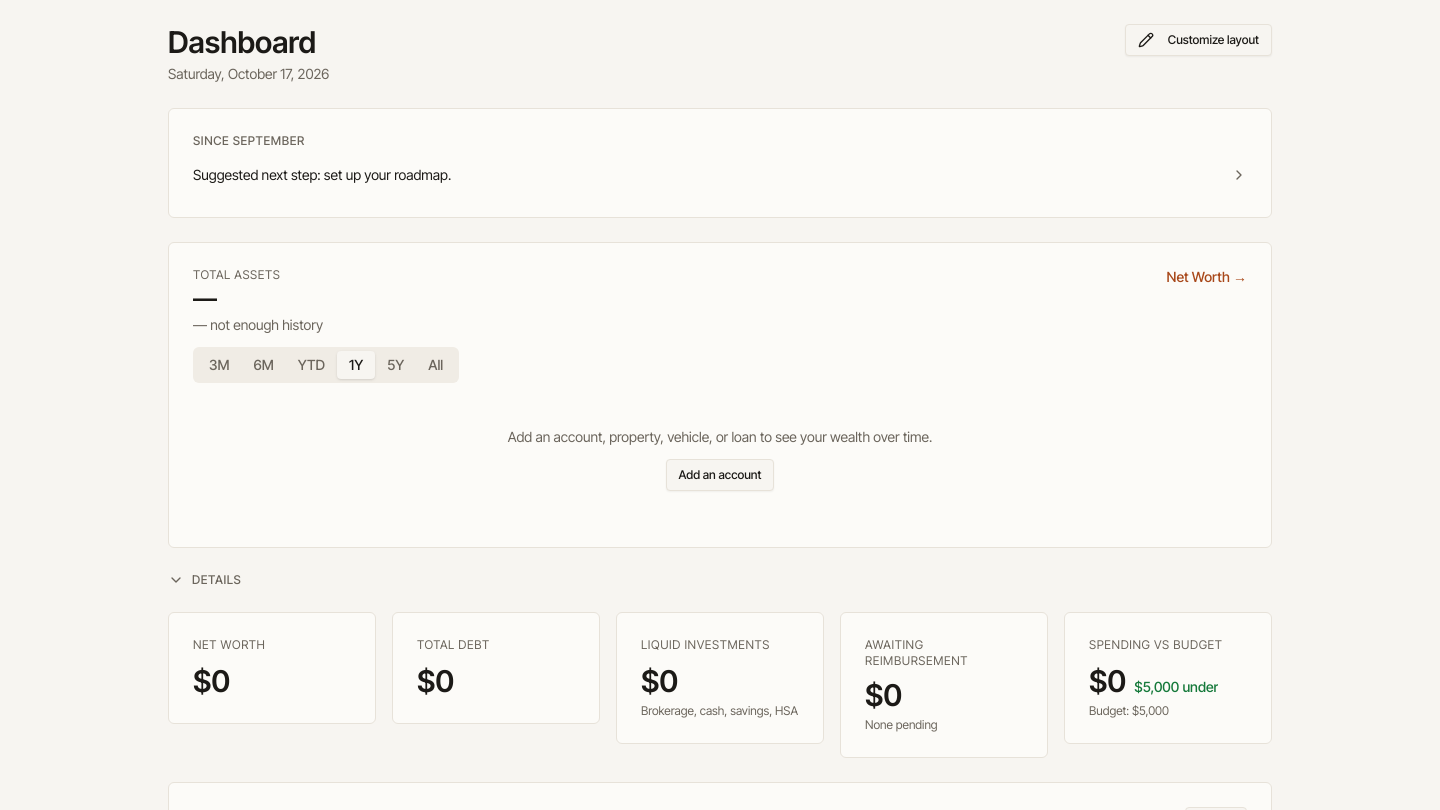
it: Dashboard widget reposition › trivia can be hidden into the tray like any widget
What coordinates should you click on to do the following:
click the button with test id "dashboard-edit-toggle"
I would click on:
 (1198, 40)
Its box is [1125,24,1272,56].
(page scrolled)
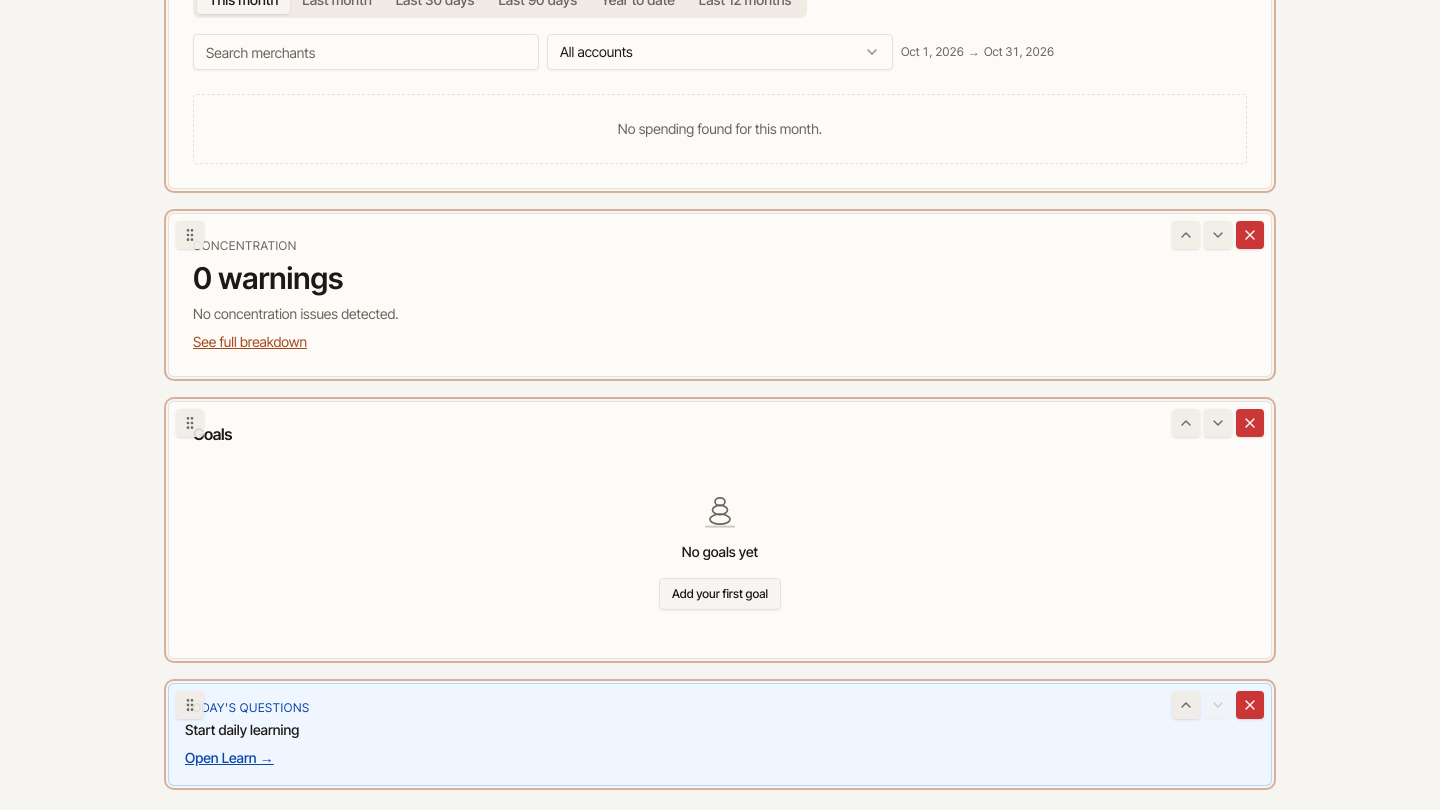
What coordinates should you click on to do the following:
click the button with test id "widget-trivia-remove"
I would click on:
 (1250, 705)
Its box is [1236,691,1264,719].
(page scrolled)
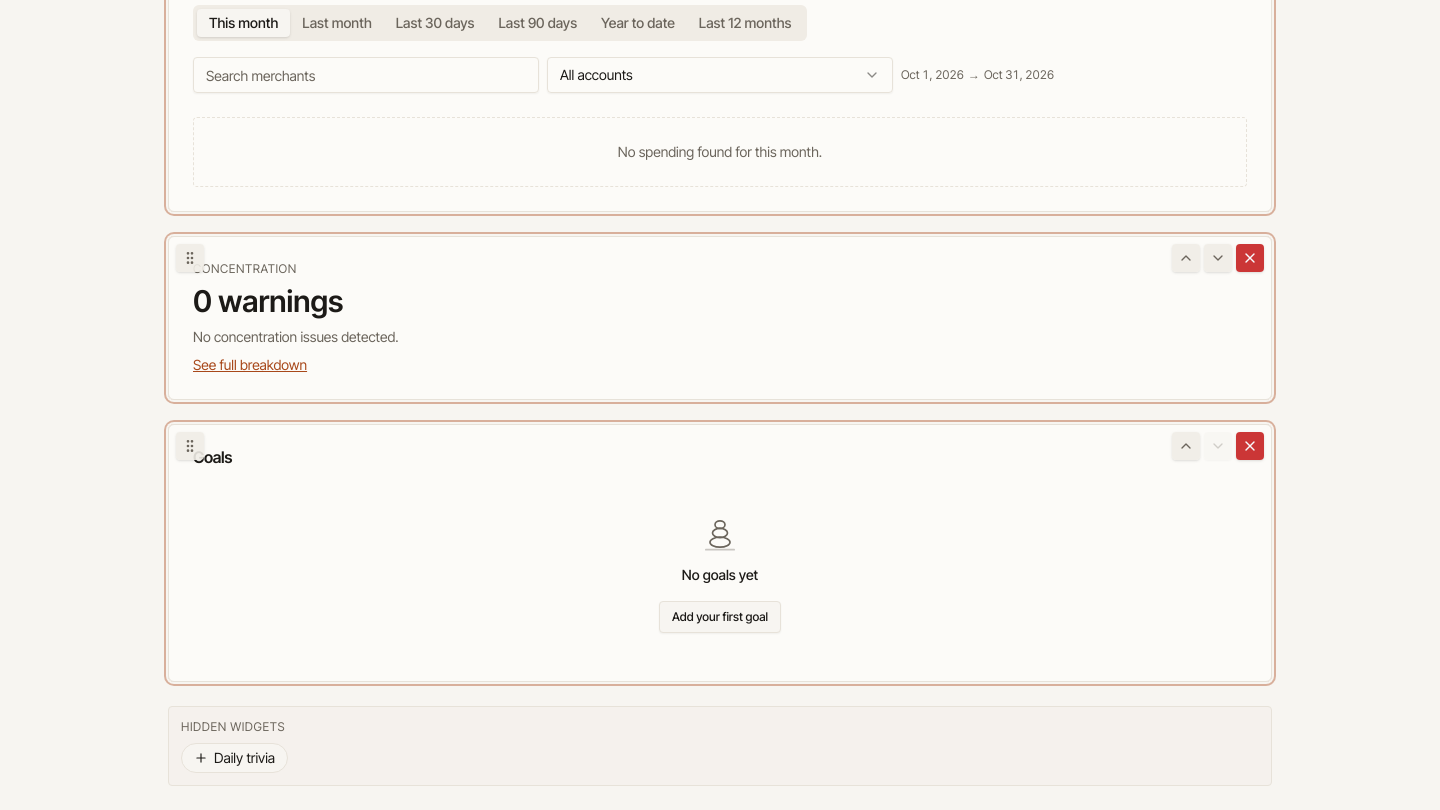
Check: the element with test id "widget-trivia" is gone
Check: the button with test id "widget-add-trivia" is shown, box [181,743,288,773]
